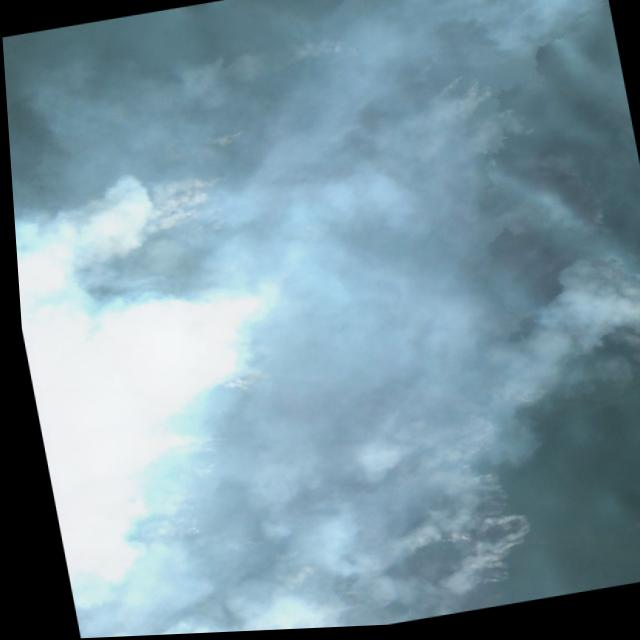fire: (443, 466, 541, 603), (444, 65, 522, 151), (168, 165, 240, 236), (202, 118, 249, 167), (307, 33, 364, 67), (627, 282, 640, 384)
